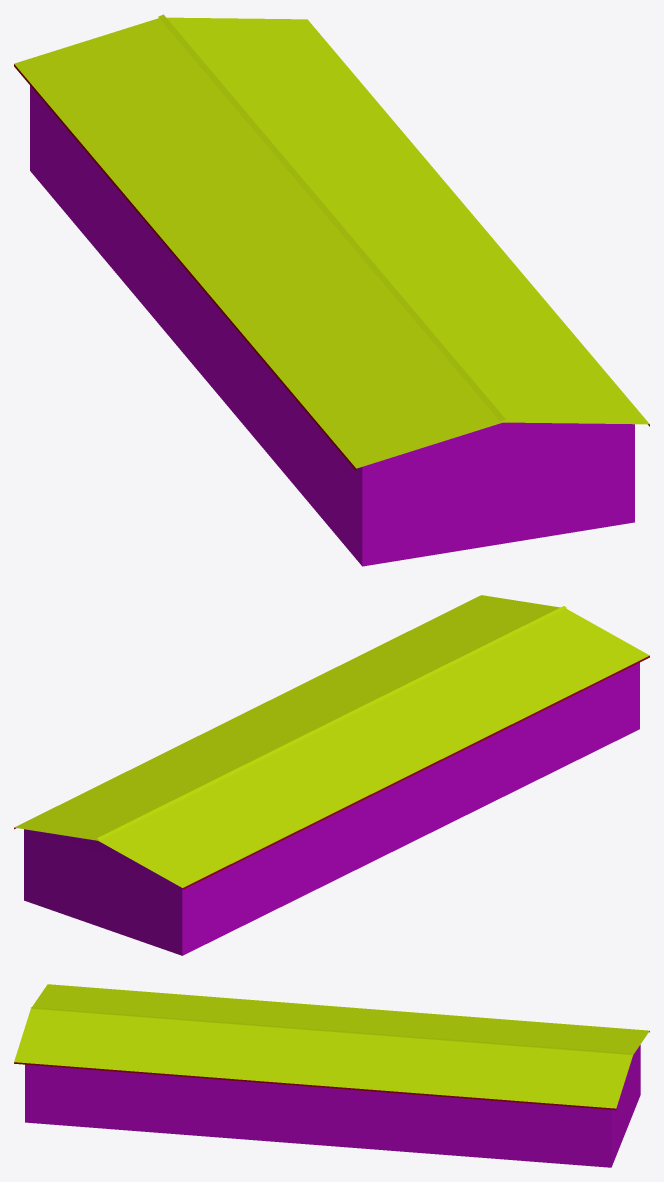
File: svc_29.glb
3 views of the same model, one above another, from view 1: azimuth 30°, elevation 25°; view 2: azimuth 150°, elevation 25°; view 3: azimuth 270°, elevation 25° (orthographic). The views are drawn at different scales.
Parts seen in each view (by area): view 1: svc_29; view 2: svc_29; view 3: svc_29.
Boxes of the visible parts, <box> form: svc_29: <box>14,14,649,566</box>; svc_29: <box>14,595,649,955</box>; svc_29: <box>14,984,649,1167</box>.
Bounding box in the file's own units: 19.74 × 5.78 × 42.63.
